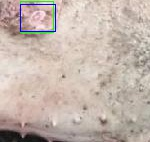text: (20, 1, 53, 32)
